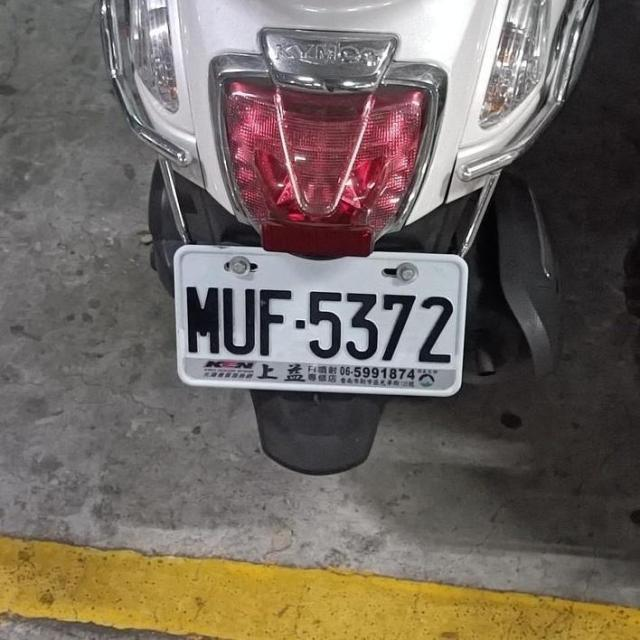W: (161, 234, 475, 401)
